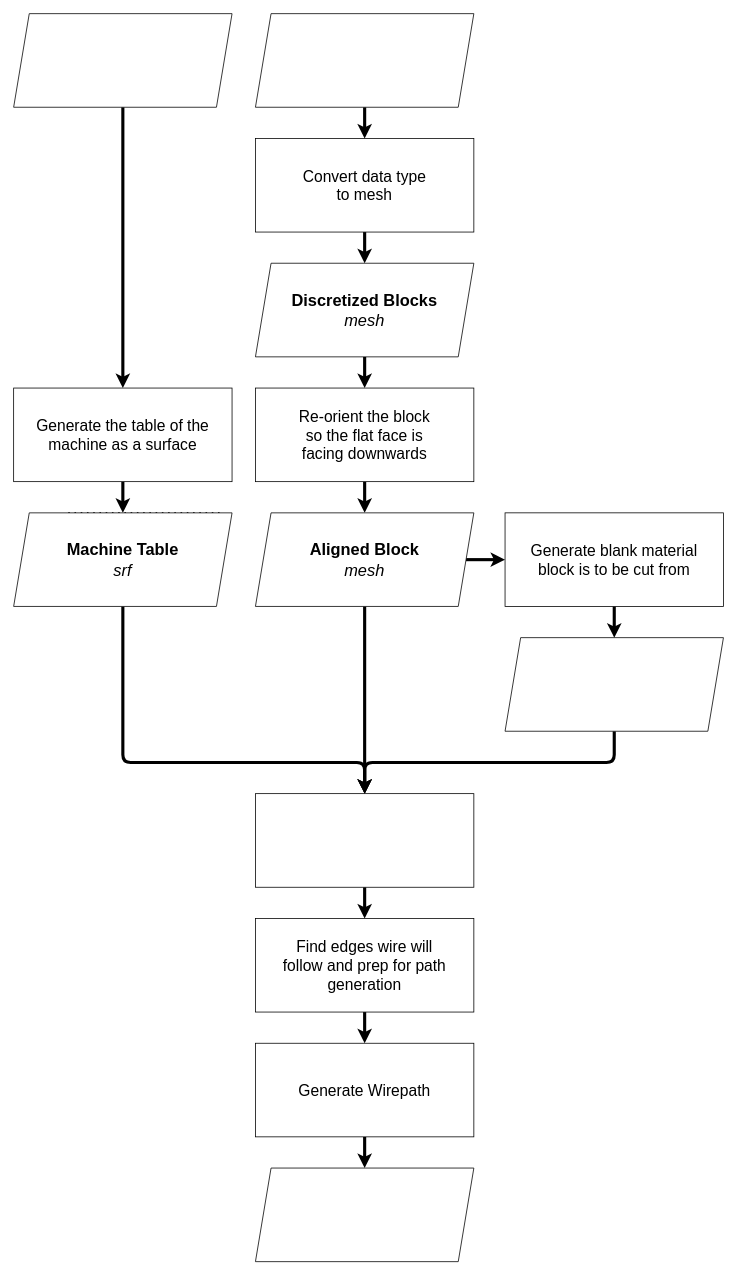
Image size: 737x1275. Some labels were removed from this diagram. Here are the shapes that lost their labels. From the top down, the centre of each, then its label:
At (x=122, y=60): "Dimensions of Machine Bed [x,y]".
At (x=364, y=60): "Discretized Blocks .json".
At (x=613, y=684): "Blank Material mesh".
At (x=364, y=840): "Orient block with blank material on the machine bed".
At (x=364, y=1214): "Dataset for Machining .json".
